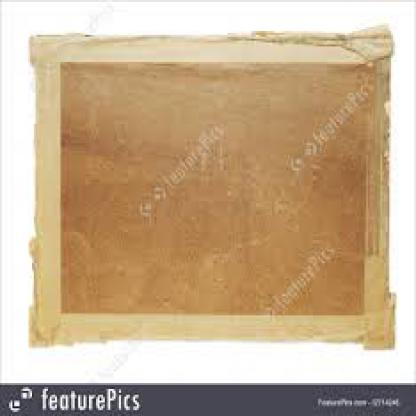CARDBOARD: (27, 25, 394, 352)
